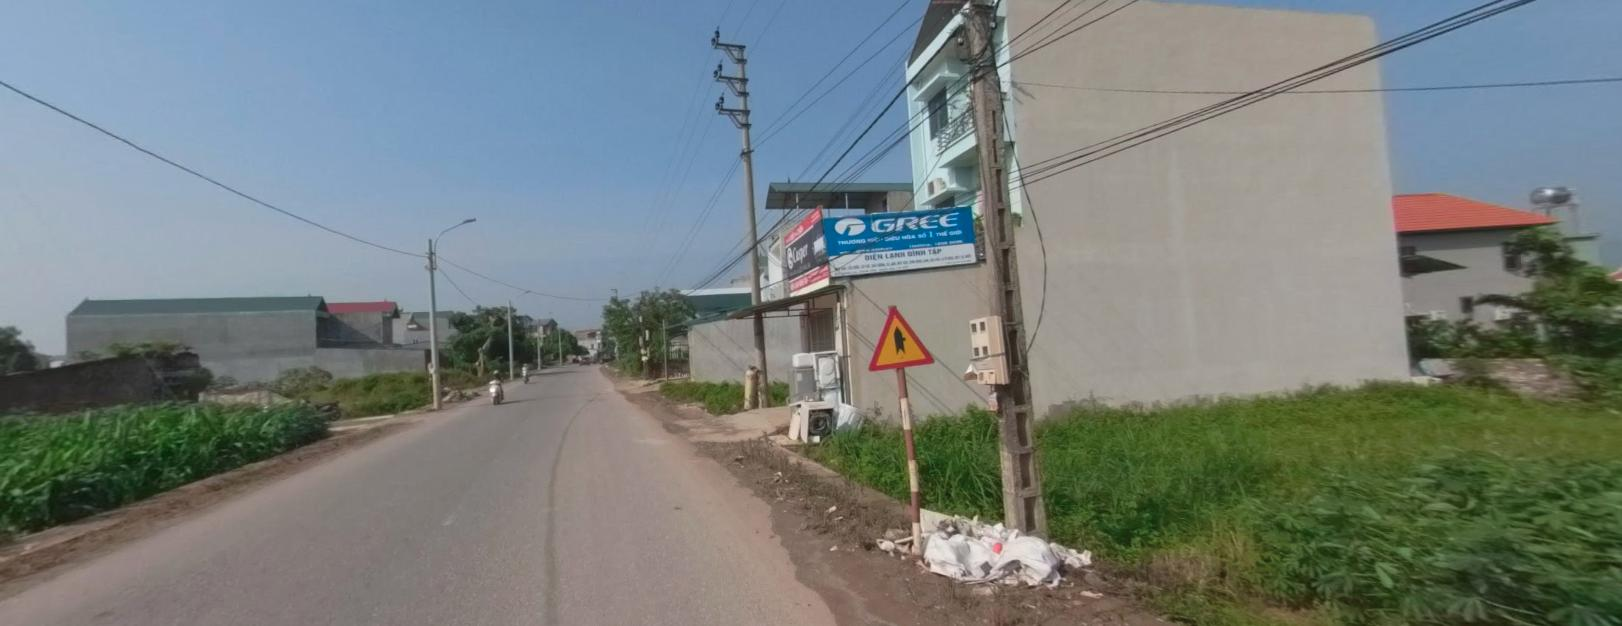Nguy hiem: (862, 298, 939, 371), (864, 297, 936, 372), (866, 304, 933, 369), (868, 304, 934, 368), (869, 307, 932, 370)
